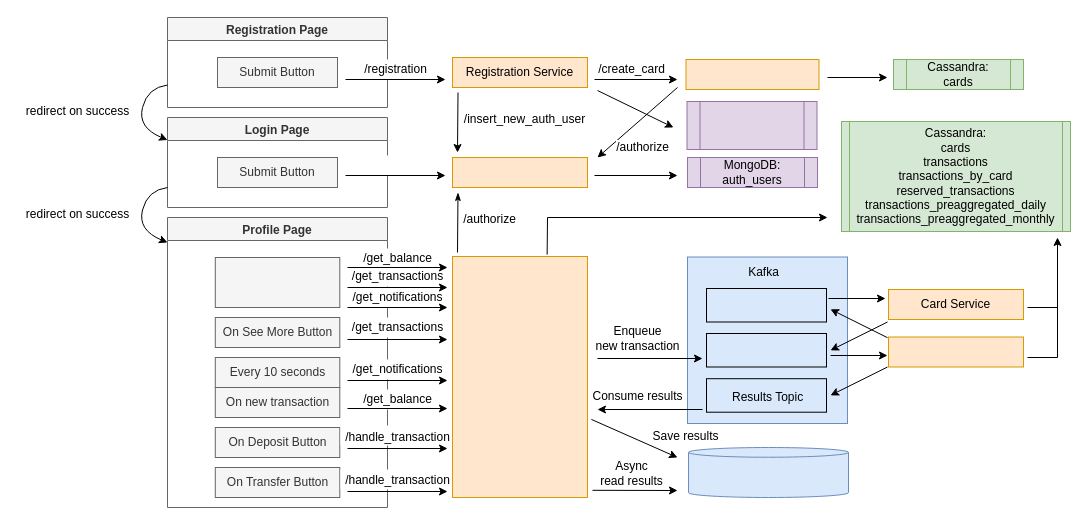
Some shapes in this 1088 by 525 pixel diagram are drawn without their labels. Here are the shapes that lost their labels. From the top down, the centre of each, then its label:
the point at 752,74: Card Manager
the point at 751,125: MongoDB: registration_cards registered_users
the point at 395,165: /login
the point at 520,172: Auth Service
the point at 277,282: On Page Load
the point at 766,305: Card Service Topic
the point at 766,349: Transactions Topic
the point at 956,351: Transaction Service
the point at 520,377: Orchestration Service
the point at 768,472: S3 Bucket
